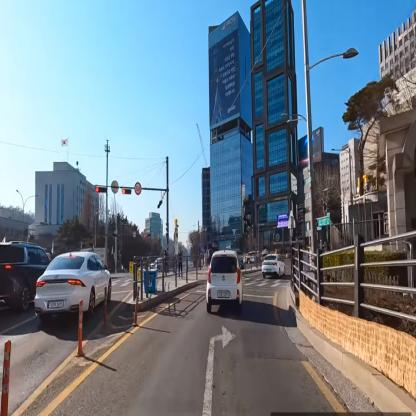red: (94, 185, 109, 194), (120, 186, 132, 195)
